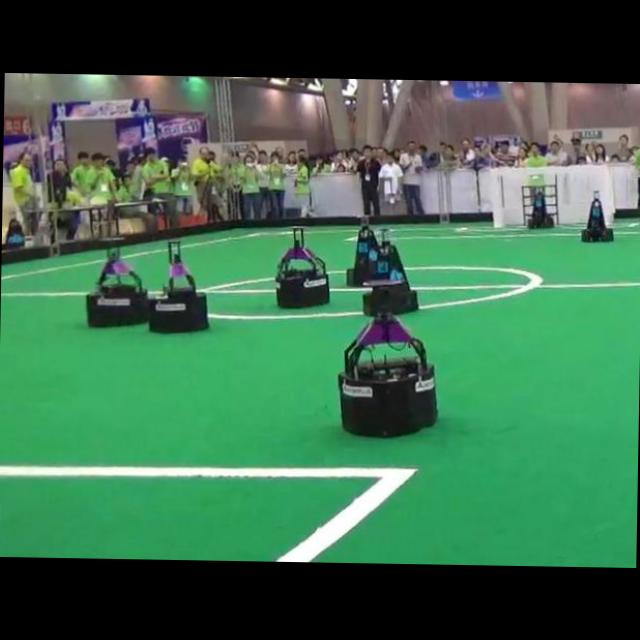goal: (491, 168, 505, 227)
robot: (338, 313, 436, 435), (85, 237, 149, 326), (149, 241, 209, 332), (361, 234, 418, 315), (275, 227, 328, 306), (346, 216, 378, 286), (521, 183, 558, 228), (581, 190, 613, 241)
